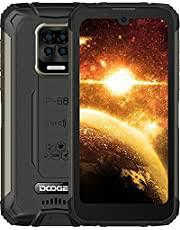Smartphone: (74, 8, 172, 219), (0, 2, 87, 225)
